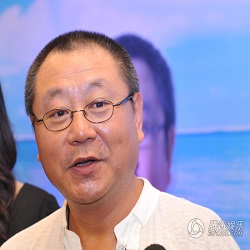unmask: (26, 55, 136, 206)
